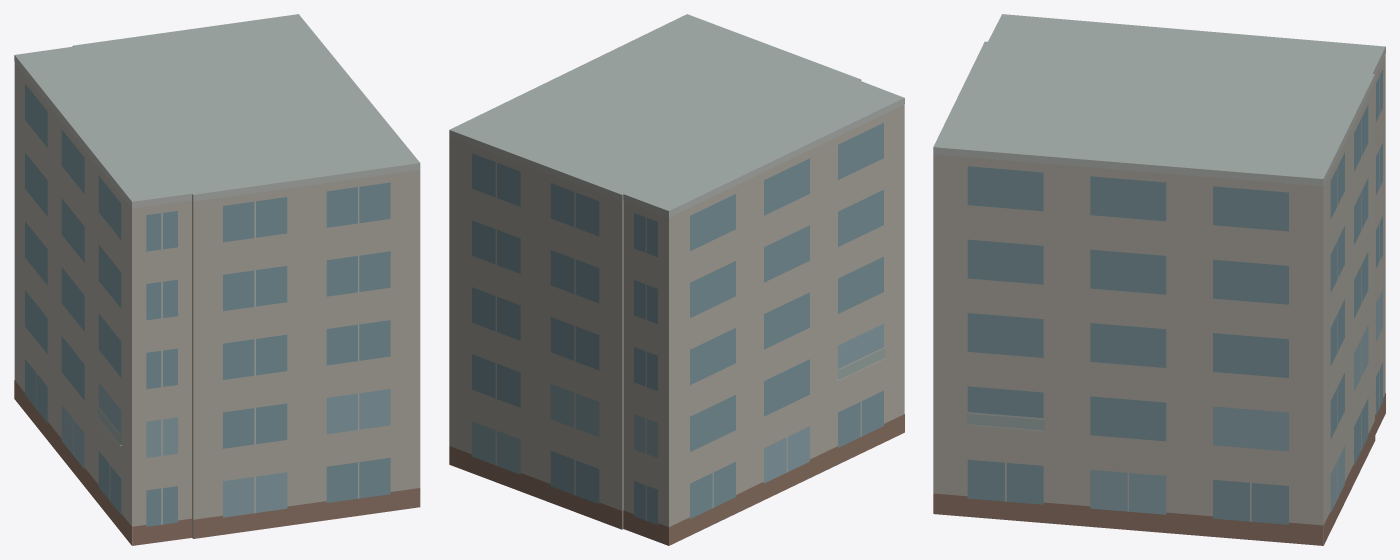
The model's file is survey-upis-32665029.glb.
The picture shows the model from 3 angles, left to right: view 1: azimuth 30°, elevation 25°; view 2: azimuth 150°, elevation 25°; view 3: azimuth 270°, elevation 25°; orthographic projection. The views are drawn at different scales.
Parts seen in each view (by area): view 1: survey-upis-32665029.tmp; view 2: survey-upis-32665029.tmp; view 3: survey-upis-32665029.tmp.
Part boxes in pixels (<box>): survey-upis-32665029.tmp: <box>14,14,420,545</box>; survey-upis-32665029.tmp: <box>449,14,904,545</box>; survey-upis-32665029.tmp: <box>933,14,1385,545</box>.
Bounding box in the file's own units: 11.89 × 12.31 × 13.78.
